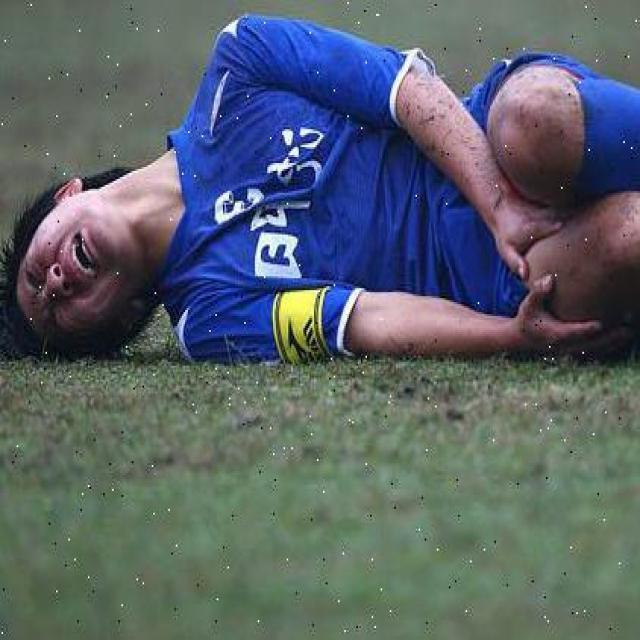fall: (19, 34, 626, 362)
